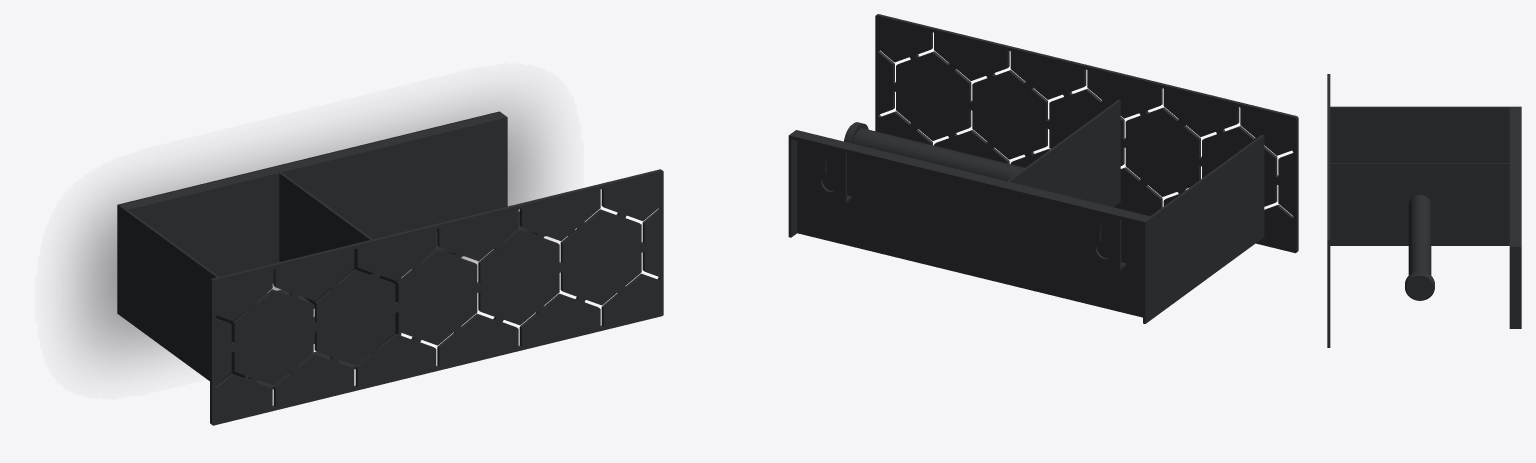
The model's file is bee-duetto.c70572a594.ar.glb.
3 views of the same model, side by side, from view 1: azimuth 30°, elevation 25°; view 2: azimuth 150°, elevation 25°; view 3: azimuth 270°, elevation 25° (orthographic). The views are drawn at different scales.
Parts seen in each view (by area): view 1: NAUO1, object 2; view 2: NAUO1; view 3: NAUO1.
Part boxes in pixels (left/top/right/bottom): NAUO1: left=117, top=111, right=663, bottom=425; object 2: left=70, top=102, right=548, bottom=360; NAUO1: left=788, top=14, right=1298, bottom=323; NAUO1: left=1327, top=74, right=1521, bottom=347.
Bounding box in the file's own units: 0.34 × 0.16 × 0.129.
2 materials, 1 textured.
